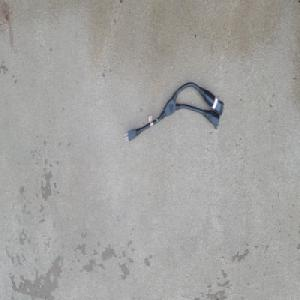Wire: (123, 80, 224, 143)
